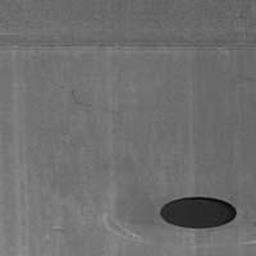Punching: (160, 197, 239, 230)
